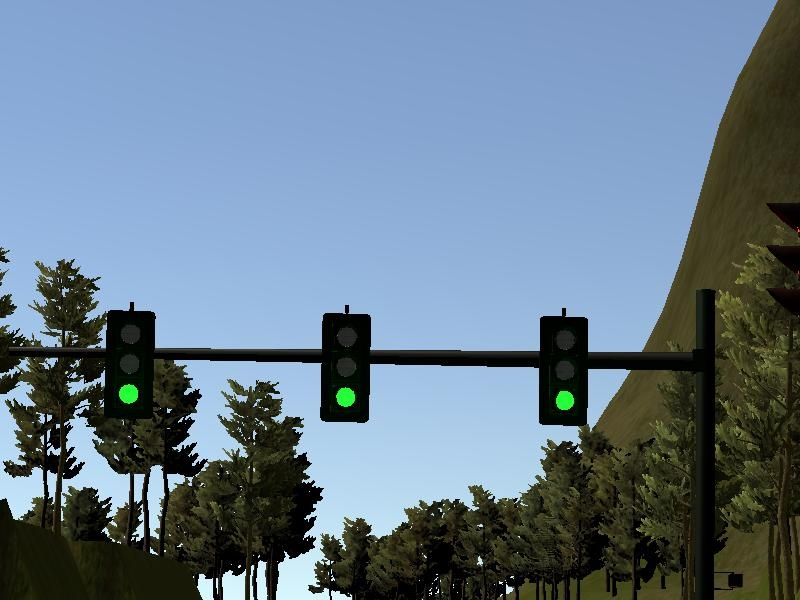traffic_light_green: (95, 304, 674, 426)
